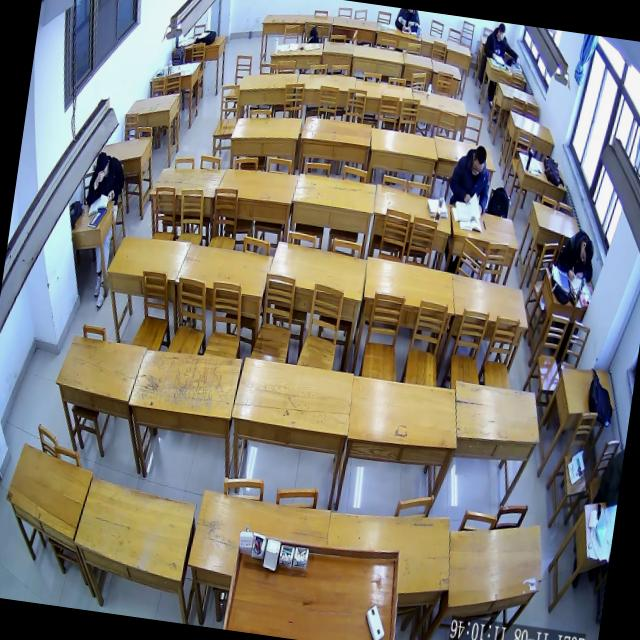down: (468, 143, 491, 180), (576, 236, 596, 267), (94, 148, 113, 180)
sit: (446, 138, 496, 214), (84, 146, 128, 212), (554, 224, 600, 285), (482, 22, 524, 64)
